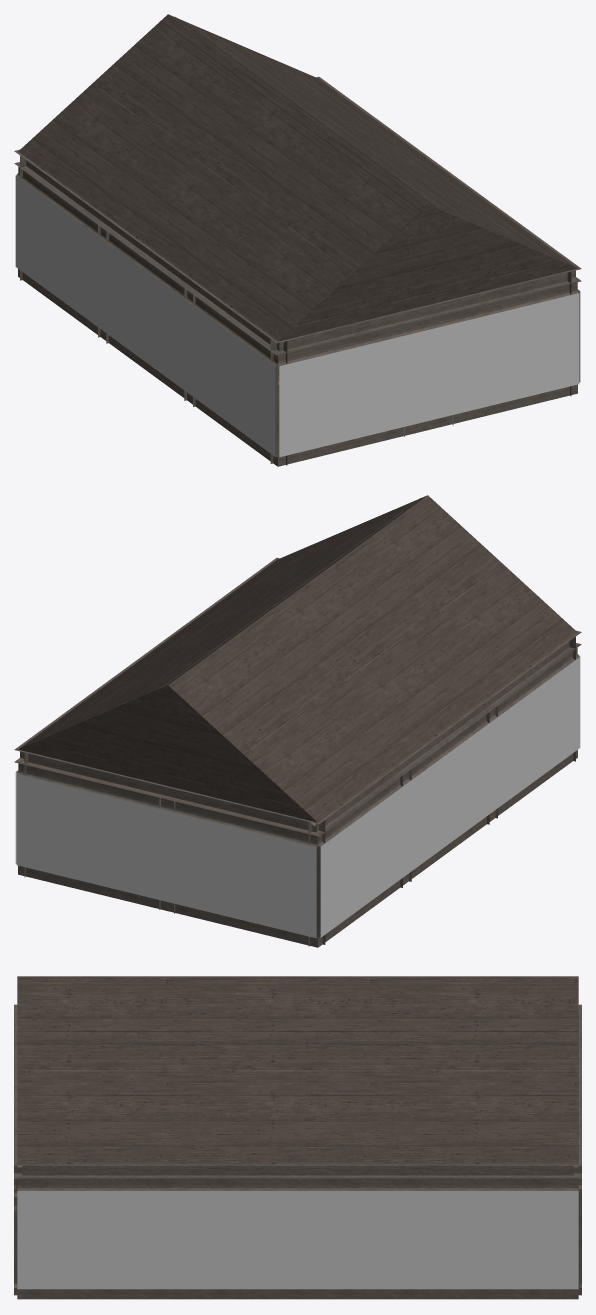
The model's file is house_interior7.fbx.
The picture shows the model from 3 angles, top to bottom: view 1: azimuth 30°, elevation 25°; view 2: azimuth 150°, elevation 25°; view 3: azimuth 270°, elevation 25°; orthographic projection. The views are drawn at different scales.
Parts seen in each view (by area): view 1: house_interior7; view 2: house_interior7; view 3: house_interior7.
Boxes of the visible parts, left/top/right/bottom form: house_interior7: left=14, top=14, right=581, bottom=466; house_interior7: left=14, top=495, right=581, bottom=947; house_interior7: left=14, top=976, right=581, bottom=1299.
Size of the model in its own units: 1017 by 720 by 1517.
